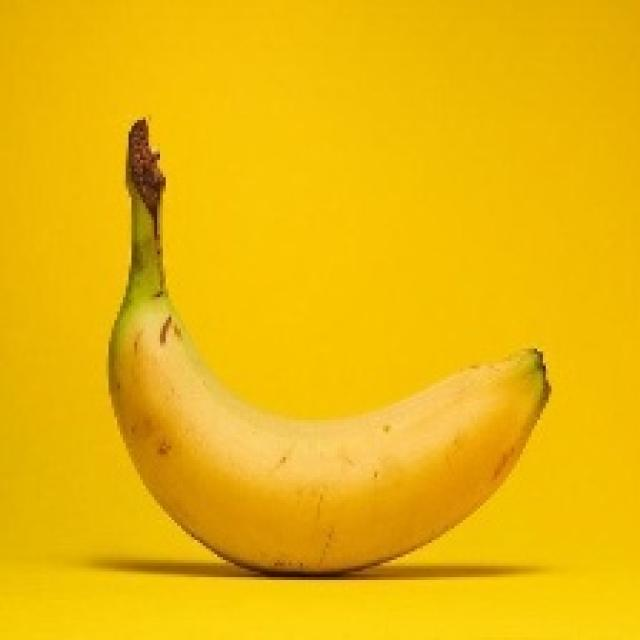Banana: (106, 115, 551, 574)
